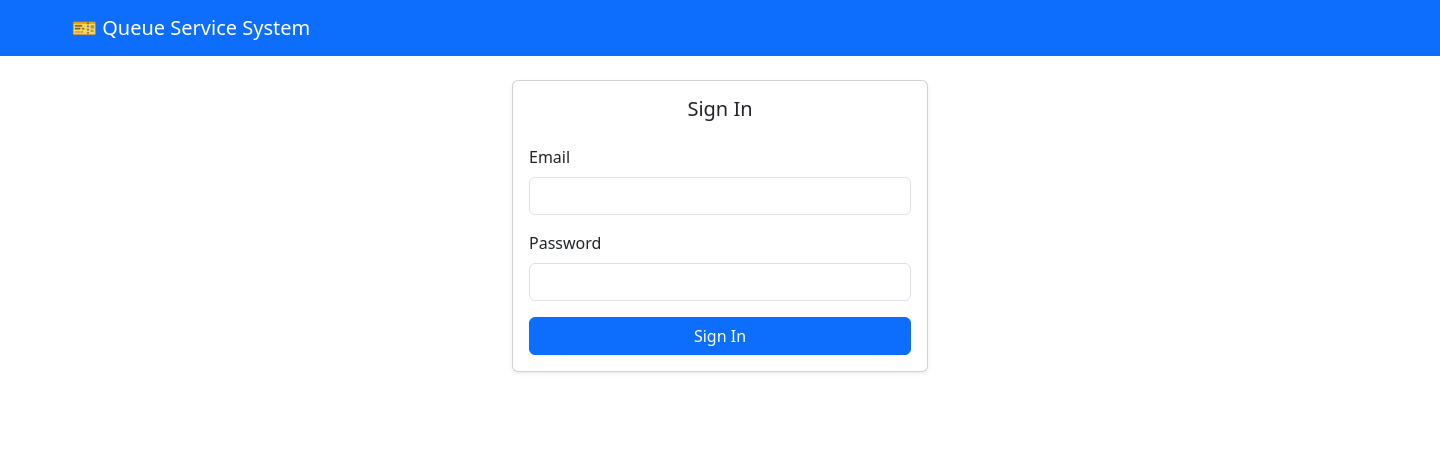
Scenario: UI-03: Login failure shows error message › displays an error when credentials are invalid
Check: the form with test id "login-form" is shown, box [529, 145, 911, 355]
Type "customer1@test.com" into the field with test id "email-input" at [720, 196], box [529, 177, 911, 215]
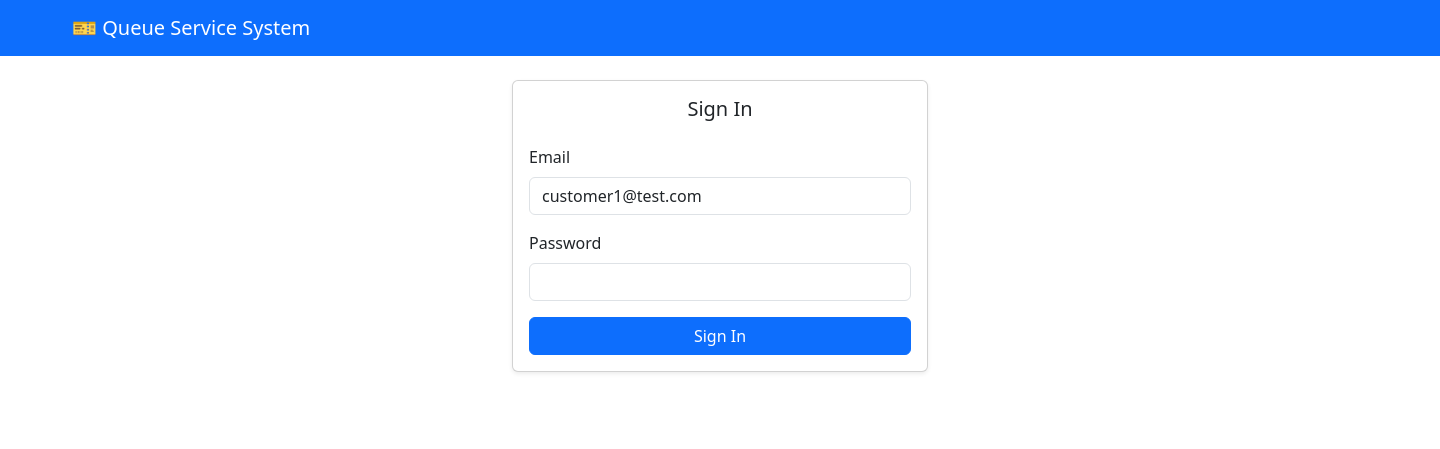
Type "wrongpassword" into the password field with test id "password-input" at [720, 282], box [529, 263, 911, 301]
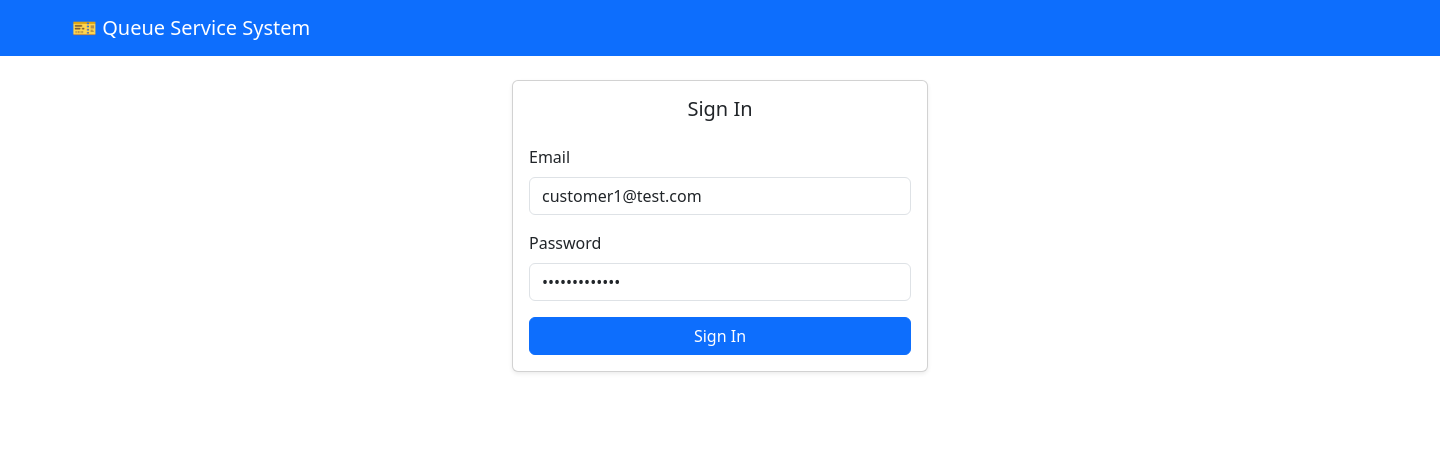
Click the button with test id "login-btn" at [720, 336], box [529, 317, 911, 355]
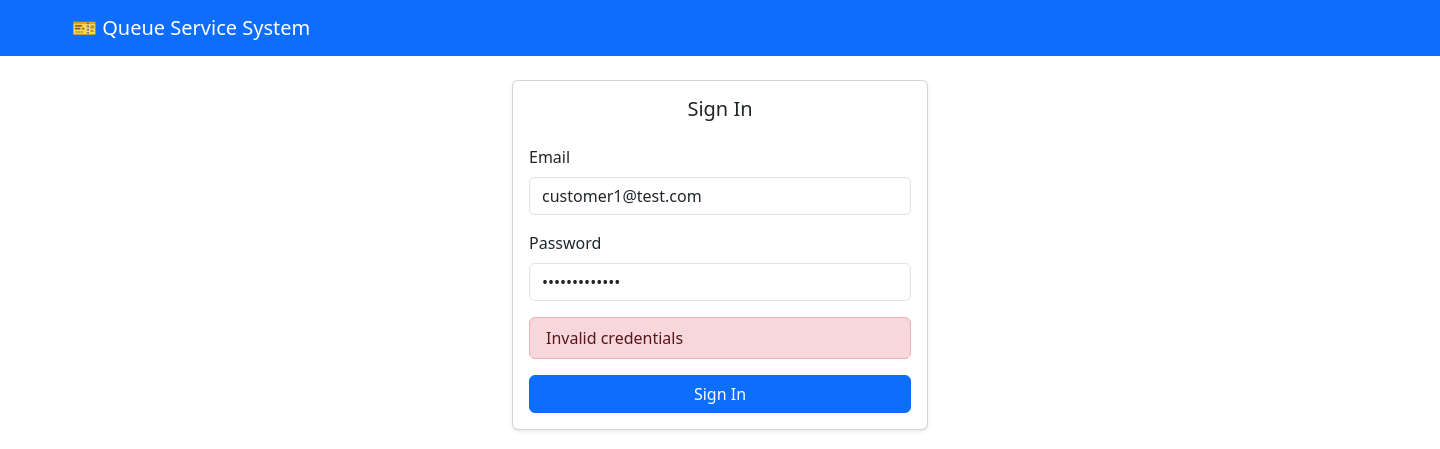
Check: the text with test id "login-error" reads "Invalid credentials", box [546, 327, 683, 349]
